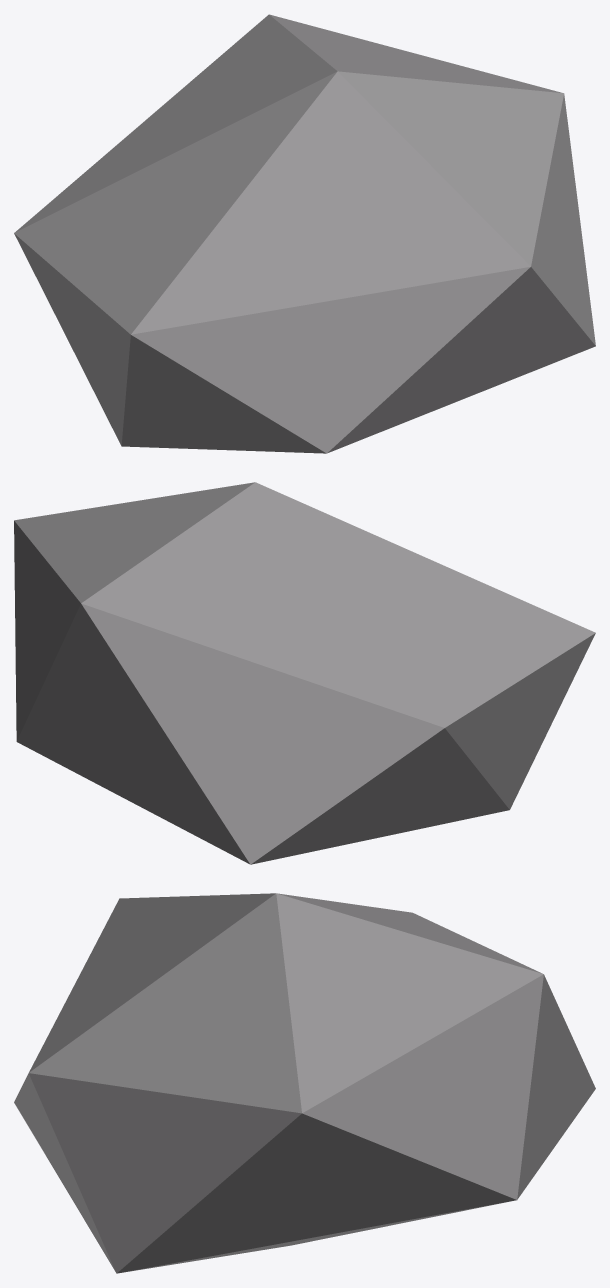
Rendered from Rock.fbx.
3 renders of one model, top to bottom at view 1: azimuth 30°, elevation 25°; view 2: azimuth 150°, elevation 25°; view 3: azimuth 270°, elevation 25°, orthographic. The views are drawn at different scales.
Parts seen in each view (by area): view 1: Rock; view 2: Rock; view 3: Rock.
Part boxes in pixels (x1,y1,x2,y2): Rock: (14,14,595,453); Rock: (14,482,595,864); Rock: (14,893,595,1273).
Size of the model in its own units: 5.46 by 3.42 by 4.95.
Materials: 1 (1 with a texture image).
